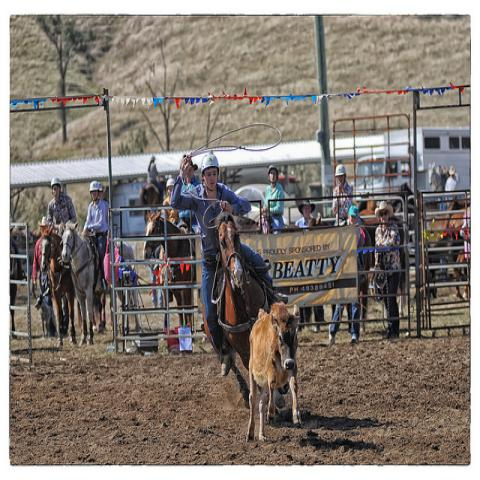car: (232, 183, 302, 225), (114, 204, 146, 237), (111, 182, 146, 208)
truck: (351, 126, 470, 198)
